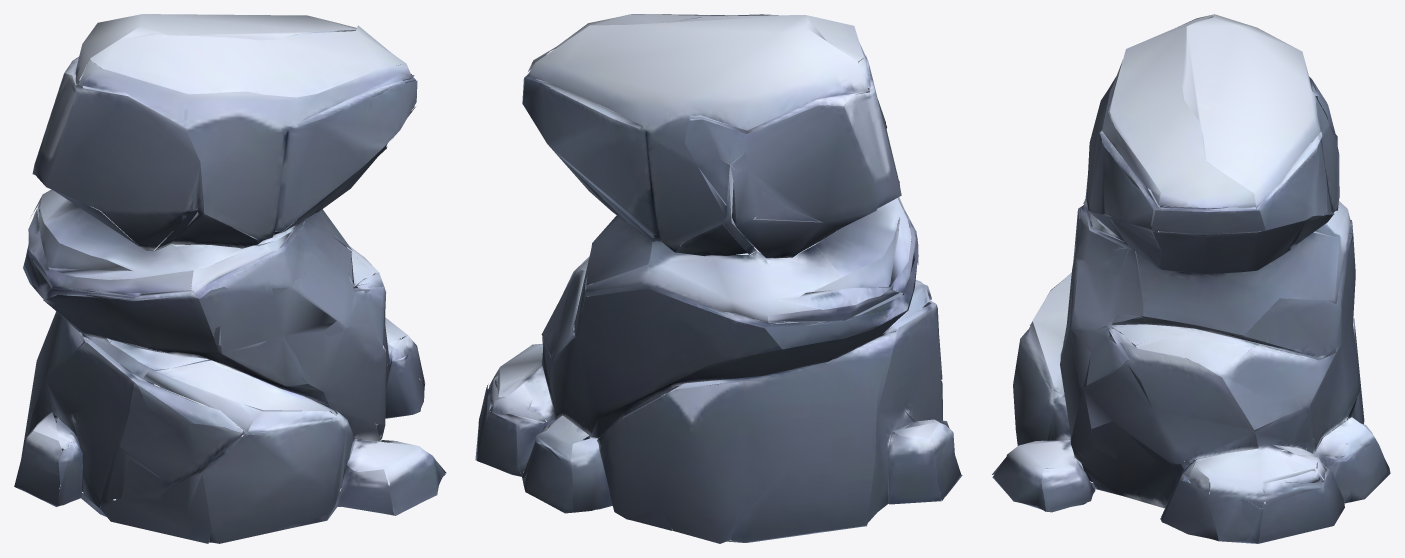
File: rock_gen_c.glb
The picture shows the model from 3 angles, left to right: view 1: azimuth 30°, elevation 25°; view 2: azimuth 150°, elevation 25°; view 3: azimuth 270°, elevation 25°; orthographic projection. The views are drawn at different scales.
Visible parts, largest first — view 1: rock_gen.002; view 2: rock_gen.002; view 3: rock_gen.002.
Part boxes in pixels (x1=…): rock_gen.002: x1=14, y1=14, x2=446, y2=543; rock_gen.002: x1=475, y1=14, x2=962, y2=543; rock_gen.002: x1=992, y1=14, x2=1390, y2=543.
Bounding box in the file's own units: 2.4 × 2.41 × 2.16.
Materials: 1 (1 with a texture image).
